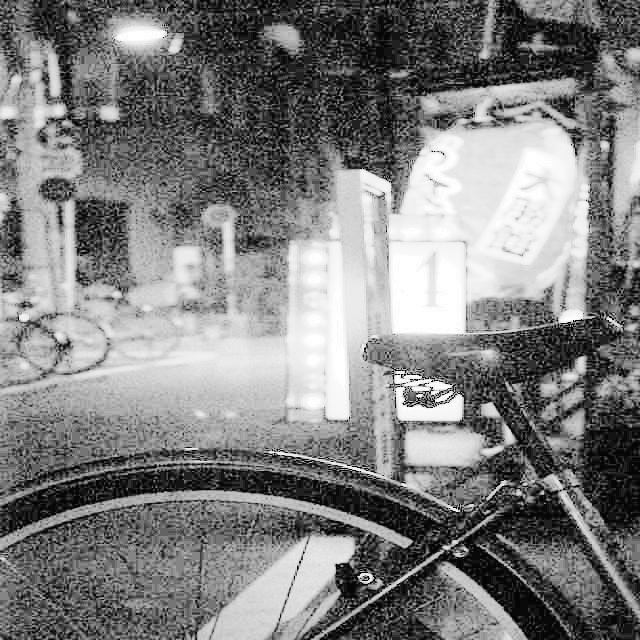Bicycle: (0, 319, 640, 640), (0, 267, 192, 383)
